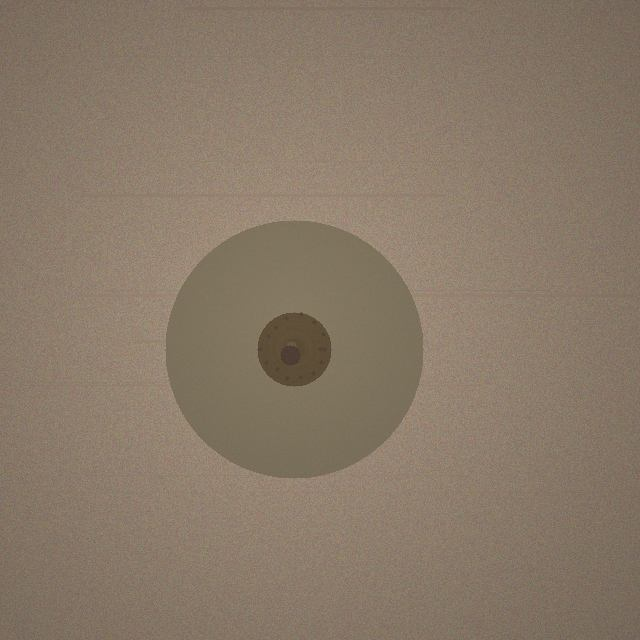cold_weld: (165, 220, 423, 478)
